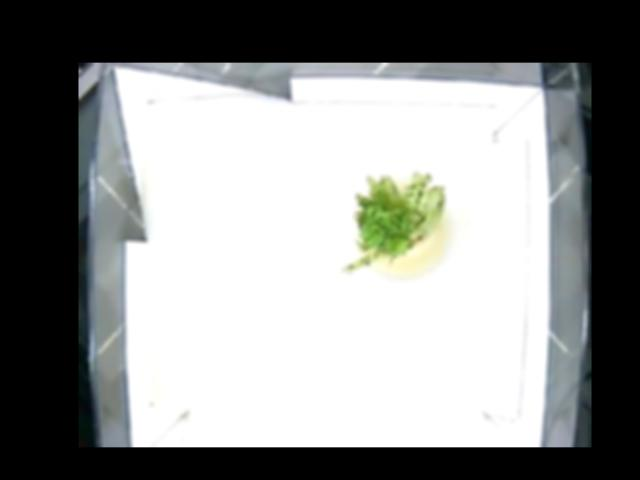Mooli: (340, 170, 445, 279)
